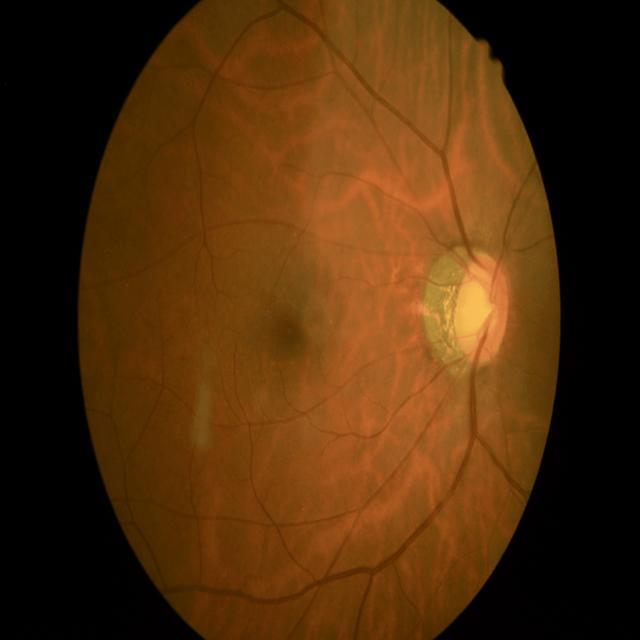cup: (459, 274, 497, 350)
disk: (454, 252, 509, 362)
